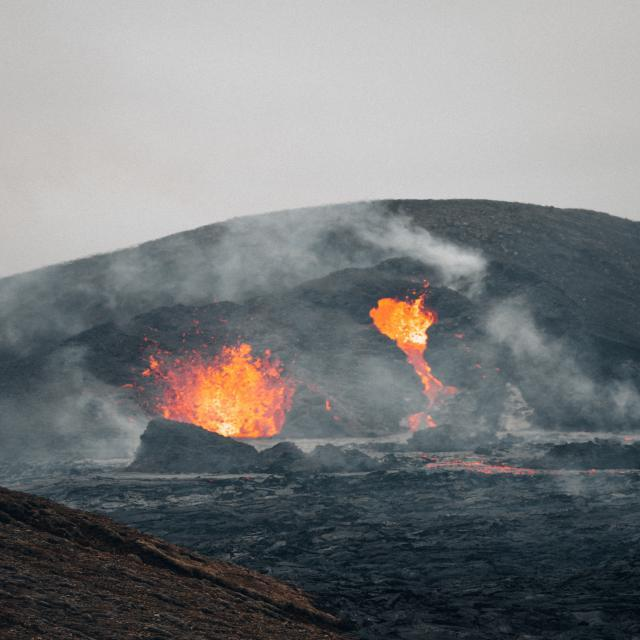Fire: (141, 342, 297, 449), (364, 296, 444, 392)
Smoke: (0, 176, 640, 500)
